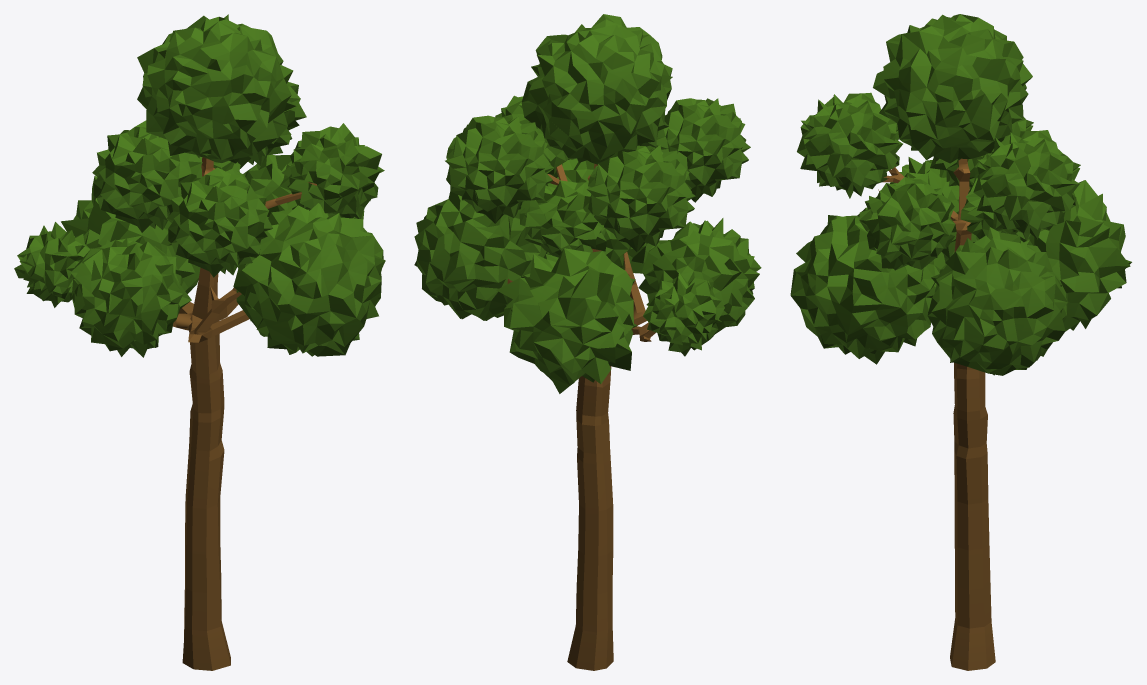
The model's file is Tree.glb.
3 views of the same model, side by side, from view 1: azimuth 30°, elevation 25°; view 2: azimuth 150°, elevation 25°; view 3: azimuth 270°, elevation 25° (orthographic). The views are drawn at different scales.
Parts seen in each view (by area): view 1: polySurface4.1; view 2: polySurface4.1; view 3: polySurface4.1.
Boxes of the visible parts, bbox=[...] form: polySurface4.1: bbox=[14, 14, 385, 670]; polySurface4.1: bbox=[414, 14, 761, 670]; polySurface4.1: bbox=[790, 14, 1131, 670].
Size of the model in its own units: 456 by 876 by 424.
Materials: 1 (1 with a texture image).
